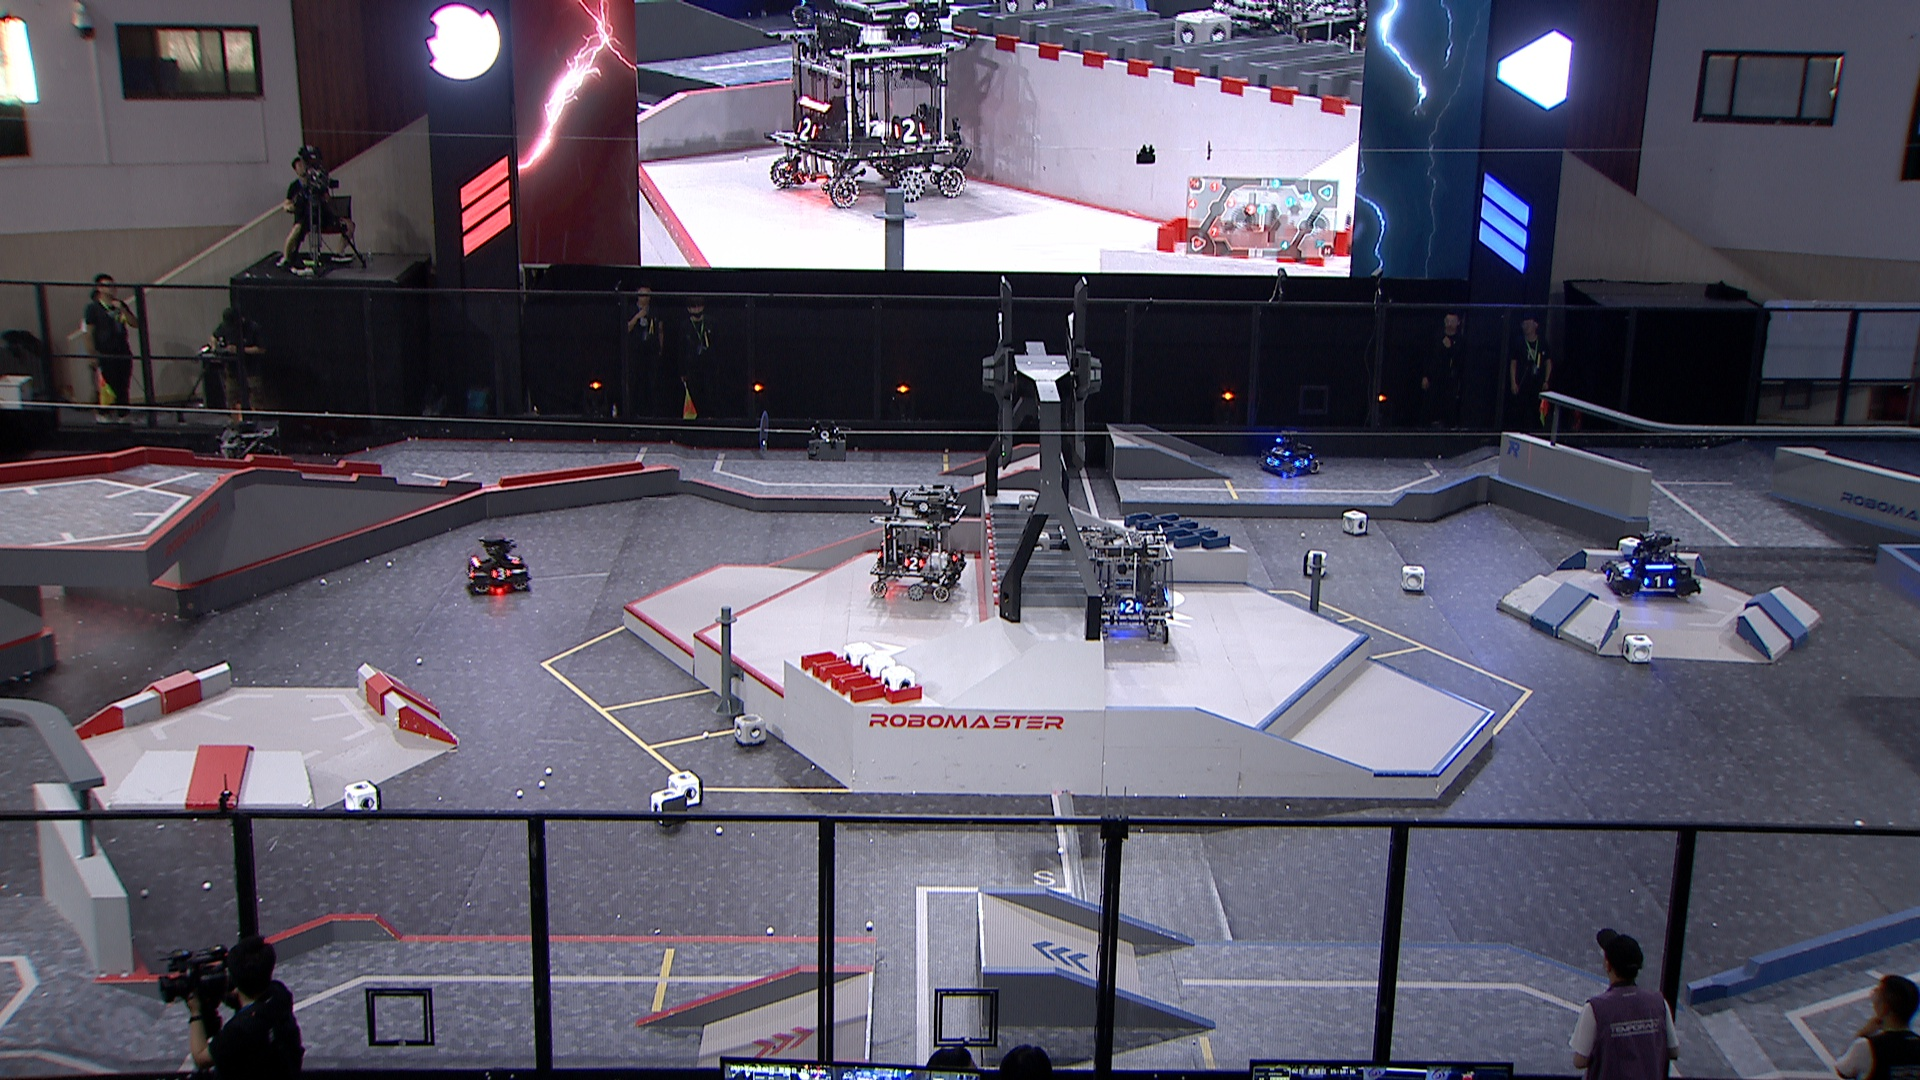armor: (1640, 572, 1673, 589), (902, 555, 927, 572), (1120, 597, 1143, 615), (489, 566, 513, 580), (1617, 559, 1636, 575), (1604, 567, 1619, 584), (1292, 458, 1313, 469), (465, 560, 477, 580), (1271, 446, 1291, 456), (506, 551, 520, 564), (1265, 458, 1280, 467)
car: (1073, 522, 1182, 646), (864, 487, 968, 603), (1600, 527, 1705, 600), (208, 417, 294, 502), (463, 534, 534, 595), (1254, 429, 1321, 477)
